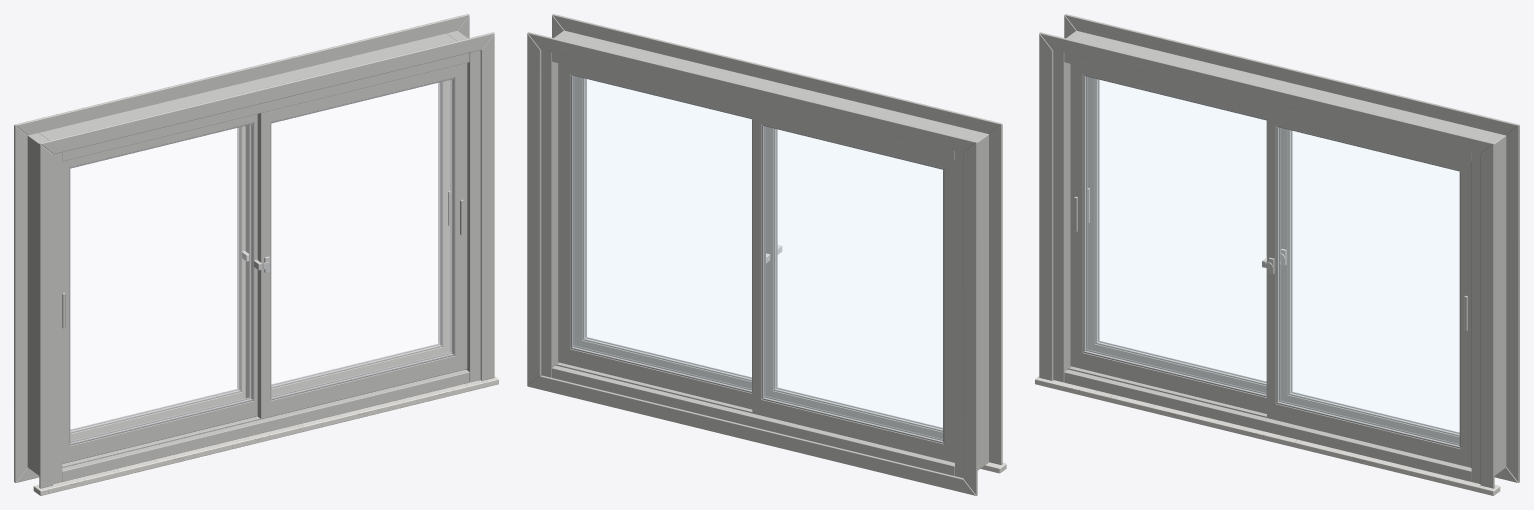
The model's file is window_master.glb.
3 renders of one model, left to right at view 1: azimuth 30°, elevation 25°; view 2: azimuth 150°, elevation 25°; view 3: azimuth 330°, elevation 25°, orthographic.
Visible parts, largest first — view 1: window_master_glass, window_master_casing, window_master_frame, window_master_sash_inner_r, window_master_sash_inner_l, window_master_sash_outer_r, window_master_sash_outer_l, window_master_sill, window_master_hardware; view 2: window_master_glass, window_master_casing, window_master_frame, window_master_sash_outer_l, window_master_sash_outer_r, window_master_sash_inner_r, window_master_sash_inner_l; view 3: window_master_glass, window_master_frame, window_master_casing, window_master_sash_inner_r, window_master_sash_inner_l, window_master_sash_outer_r, window_master_sash_outer_l, window_master_sill, window_master_hardware.
Part boxes in pixels (bbox=[...]): window_master_glass: bbox=[70, 80, 452, 442]; window_master_casing: bbox=[14, 14, 494, 488]; window_master_frame: bbox=[27, 30, 480, 483]; window_master_sash_inner_r: bbox=[257, 63, 467, 418]; window_master_sash_inner_l: bbox=[62, 114, 257, 463]; window_master_sash_outer_r: bbox=[245, 80, 450, 398]; window_master_sash_outer_l: bbox=[70, 126, 245, 441]; window_master_sill: bbox=[33, 376, 498, 495]; window_master_hardware: bbox=[62, 190, 463, 328]; window_master_glass: bbox=[573, 76, 942, 441]; window_master_casing: bbox=[527, 14, 1002, 495]; window_master_frame: bbox=[541, 30, 988, 478]; window_master_sash_outer_l: bbox=[752, 110, 954, 462]; window_master_sash_outer_r: bbox=[558, 63, 752, 408]; window_master_sash_inner_r: bbox=[575, 76, 751, 388]; window_master_sash_inner_l: bbox=[766, 126, 942, 439]; window_master_glass: bbox=[1085, 77, 1459, 445]; window_master_frame: bbox=[1053, 30, 1506, 483]; window_master_casing: bbox=[1039, 14, 1519, 488]; window_master_sash_inner_r: bbox=[1267, 111, 1471, 467]; window_master_sash_inner_l: bbox=[1070, 64, 1266, 413]; window_master_sash_outer_r: bbox=[1280, 128, 1459, 443]; window_master_sash_outer_l: bbox=[1087, 77, 1266, 392]; window_master_sill: bbox=[1035, 376, 1500, 495]; window_master_hardware: bbox=[1074, 188, 1467, 331].
Size of the model in its own units: 2.24 by 1.67 by 0.242.
6 materials, 1 textured.
